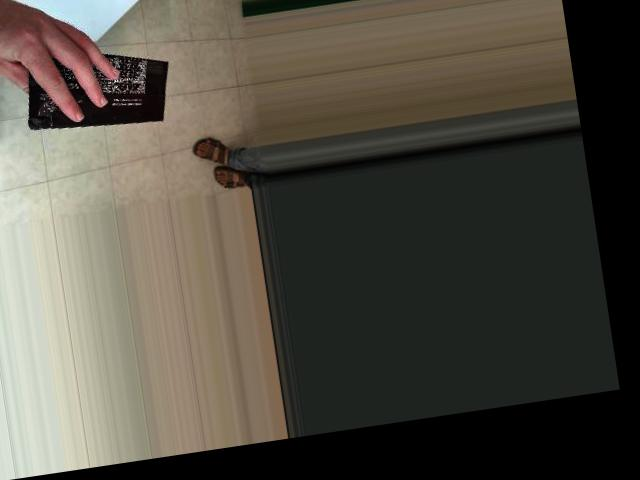chocolate: (11, 38, 180, 145)
